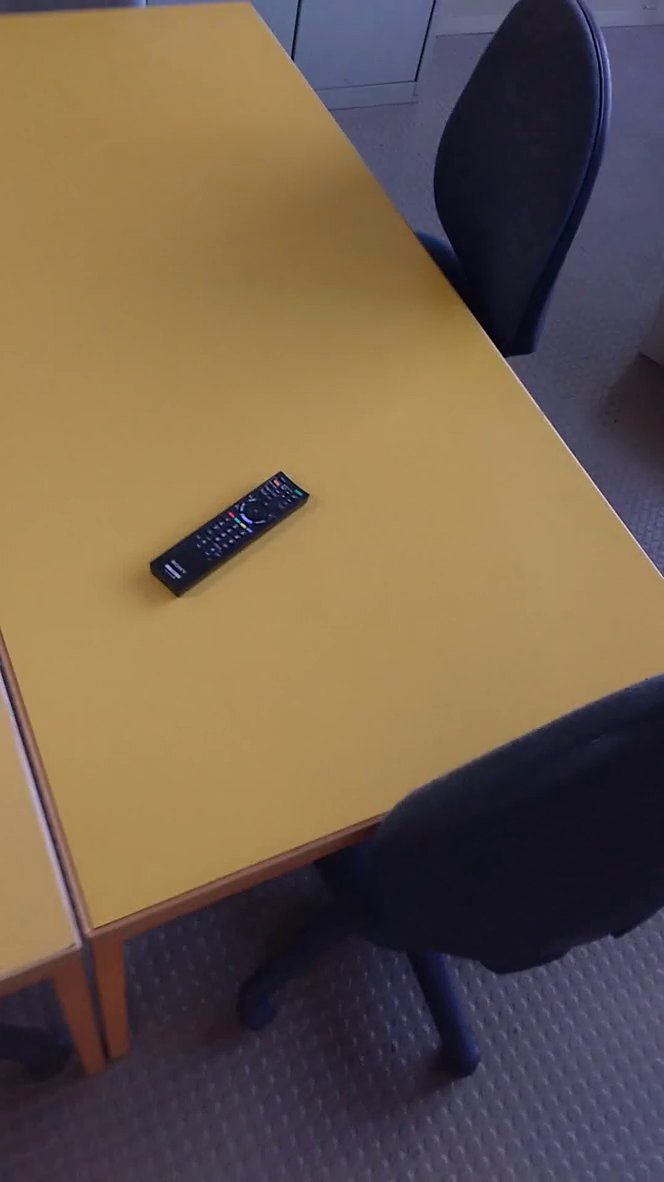chair: (391, 1, 618, 364)
remote: (137, 468, 336, 609)
